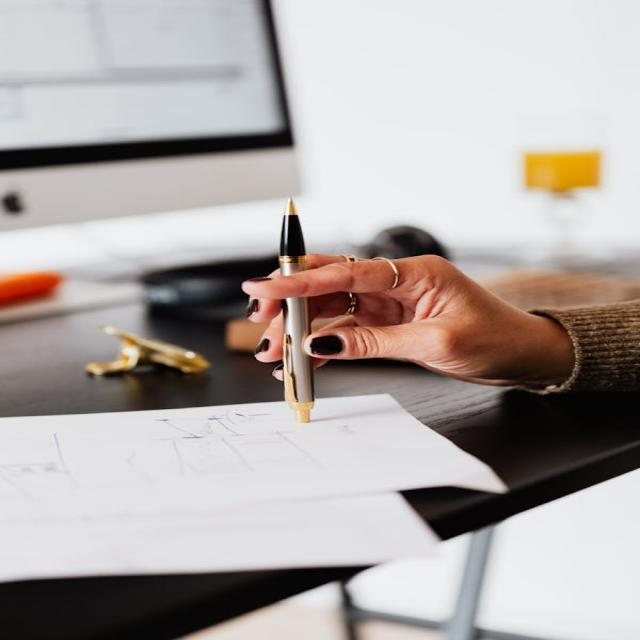pen: (229, 190, 316, 418)
